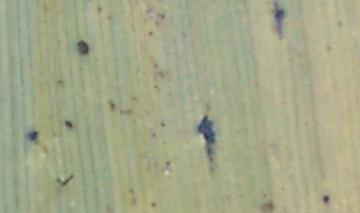tarspot: (196, 111, 219, 172), (269, 1, 284, 40), (259, 190, 275, 213), (75, 38, 90, 56), (24, 129, 40, 144), (107, 98, 116, 115), (142, 3, 152, 17), (117, 108, 134, 116), (62, 118, 74, 129), (128, 195, 138, 207), (321, 193, 331, 204), (147, 200, 158, 210), (127, 94, 139, 103), (155, 11, 167, 20), (145, 29, 155, 38), (55, 77, 64, 86), (162, 159, 172, 167), (151, 84, 162, 91), (94, 4, 102, 13), (126, 187, 135, 195), (153, 19, 161, 28), (104, 14, 114, 21), (159, 121, 167, 129), (324, 44, 332, 52), (149, 130, 156, 139), (335, 19, 342, 27), (151, 62, 159, 68)
